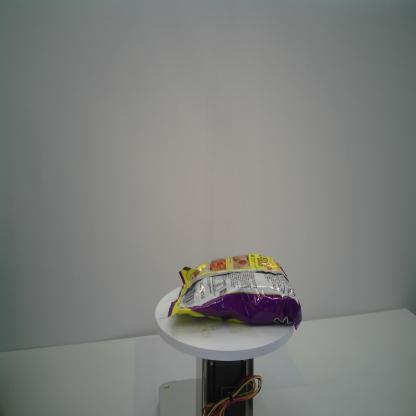Instant Noodles: (166, 253, 303, 332)
